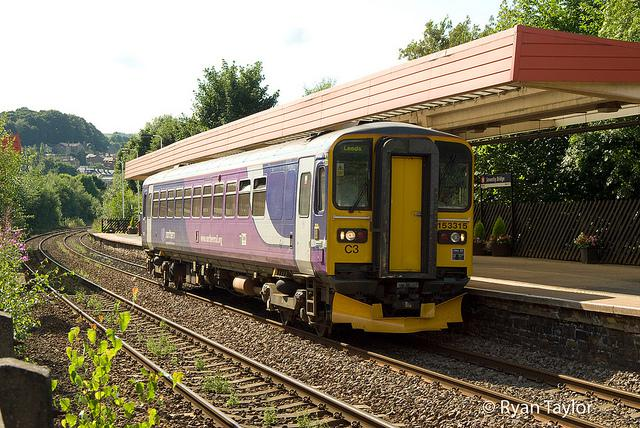Train: (142, 122, 478, 353)
